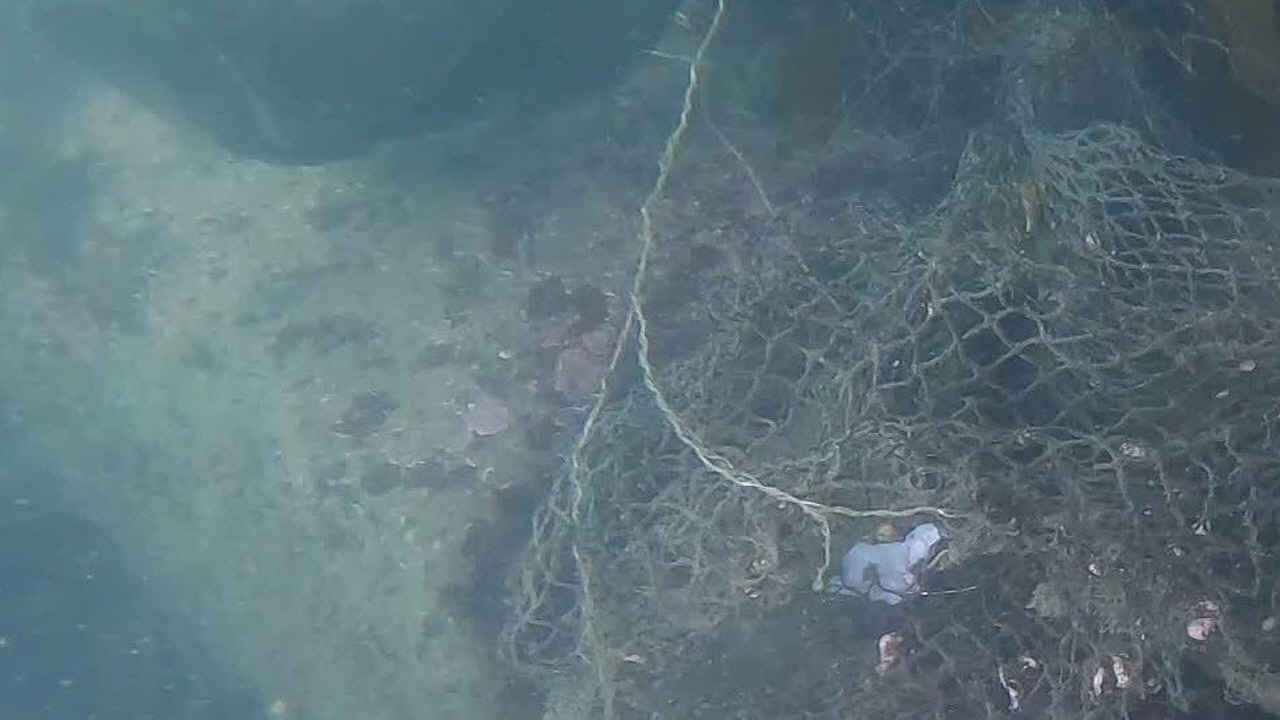fish net: (501, 122, 1280, 717)
